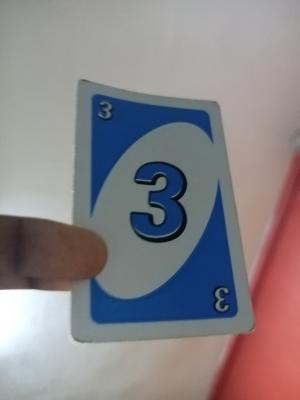blue: (87, 92, 224, 322)
num_3: (207, 281, 236, 316), (96, 99, 114, 124)
